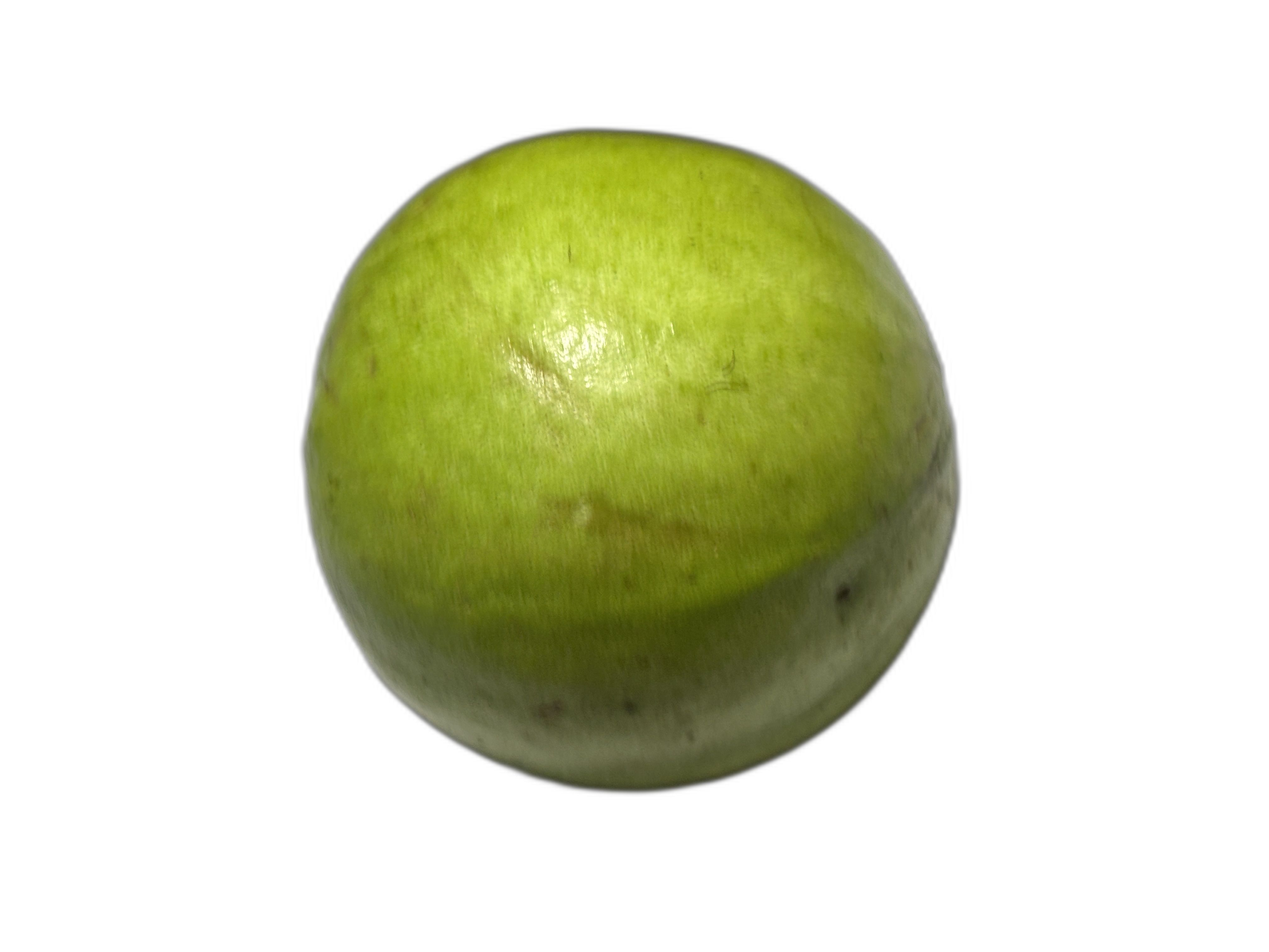guava: (221, 102, 1095, 786)
